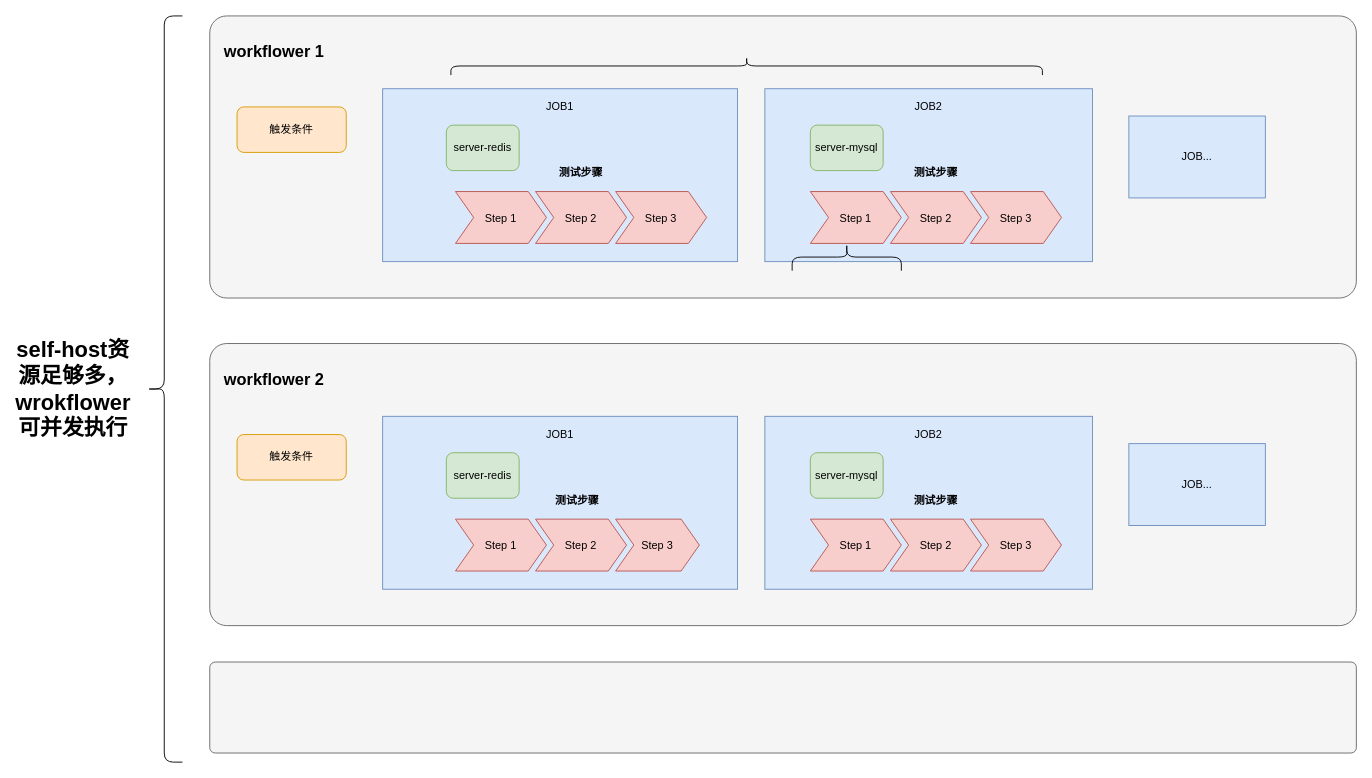
Some shapes in this 1372 by 778 pixel diagram are drawn without their labels. Here are the shapes that lost their labels. From the top down, the box of each, then its label:
(450, 56, 1042, 75): job 间没有依赖关系可并发执行
(791, 243, 901, 271): 1. shell 命令行 2. shell 脚本 3. 其他语言脚本
(209, 661, 1356, 753): workflower N
